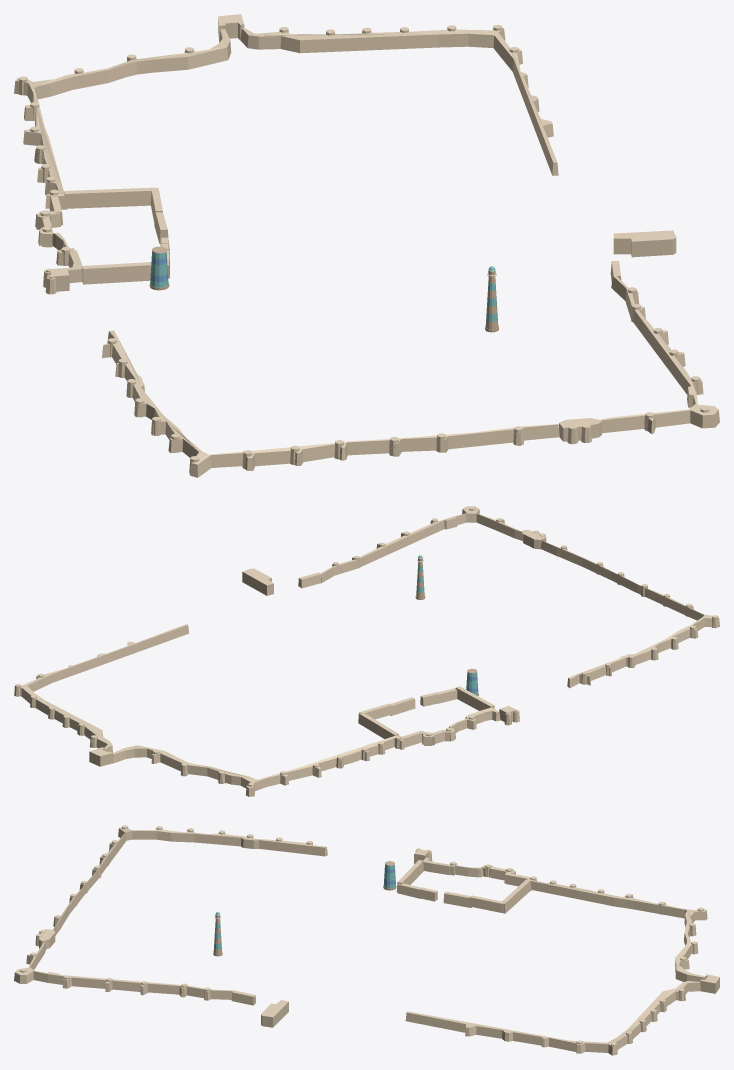
Rendered from hiva-far.glb.
3 renders of one model, top to bottom at view 1: azimuth 30°, elevation 25°; view 2: azimuth 150°, elevation 25°; view 3: azimuth 270°, elevation 25°, orthographic. The views are drawn at different scales.
Parts seen in each view (by area): view 1: hiva_far; view 2: hiva_far; view 3: hiva_far.
Boxes of the visible parts, x1,y1,x2,y2 form: hiva_far: [14, 14, 719, 477]; hiva_far: [14, 506, 719, 796]; hiva_far: [14, 825, 719, 1055].
Bounding box in the file's own units: 594 × 56.63 × 796.
